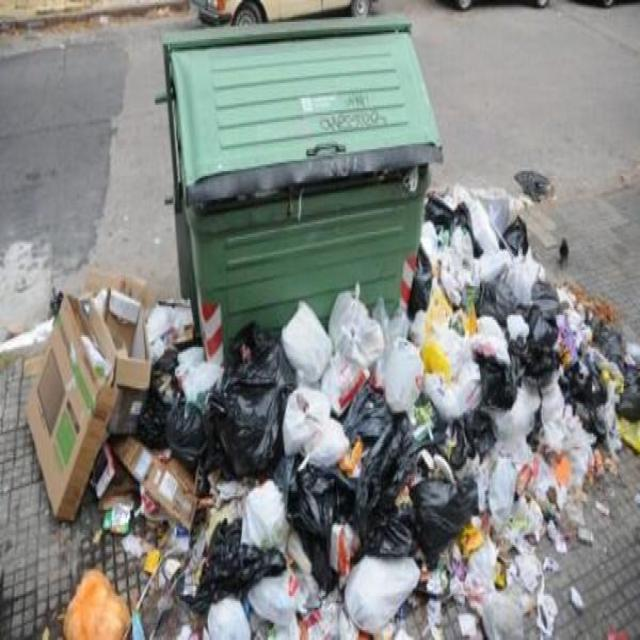garbage: (24, 274, 640, 639), (415, 176, 545, 284)
